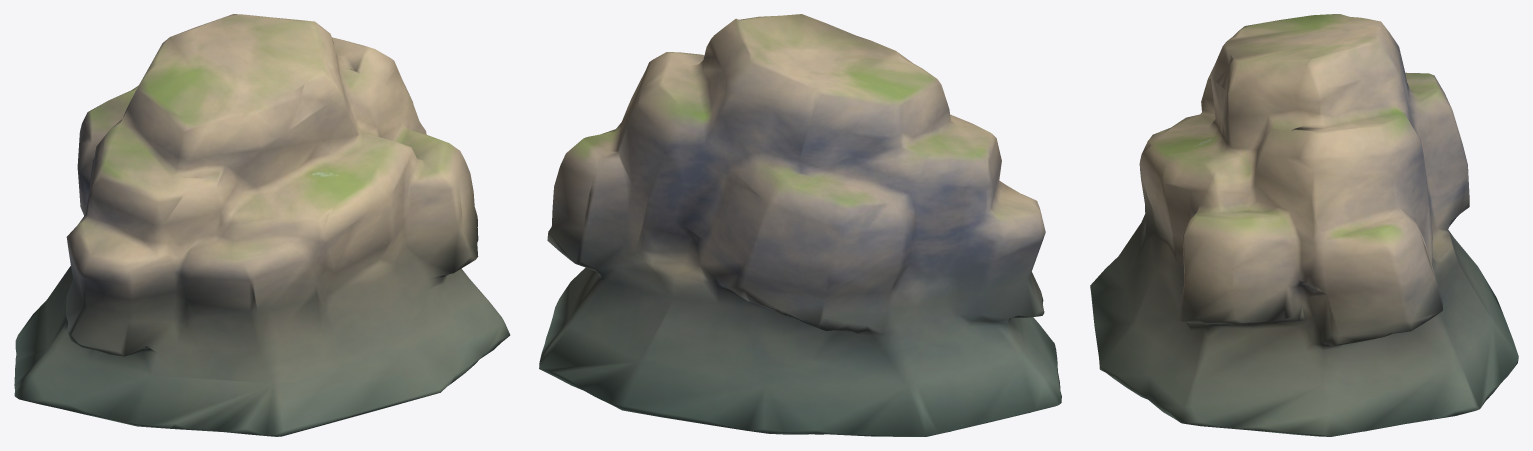
Rendered from rock_shore_wide.glb.
3 renders of one model, left to right at view 1: azimuth 30°, elevation 25°; view 2: azimuth 150°, elevation 25°; view 3: azimuth 270°, elevation 25°, orthographic. The views are drawn at different scales.
Parts seen in each view (by area): view 1: rock_shore_wide; view 2: rock_shore_wide; view 3: rock_shore_wide.
Boxes of the visible parts, x1,y1,x2,y2 form: rock_shore_wide: (14,14,510,436); rock_shore_wide: (539,14,1061,436); rock_shore_wide: (1090,14,1518,436).
Size of the model in its own units: 3.12 by 1.95 by 2.5.
1 material, 1 textured.
